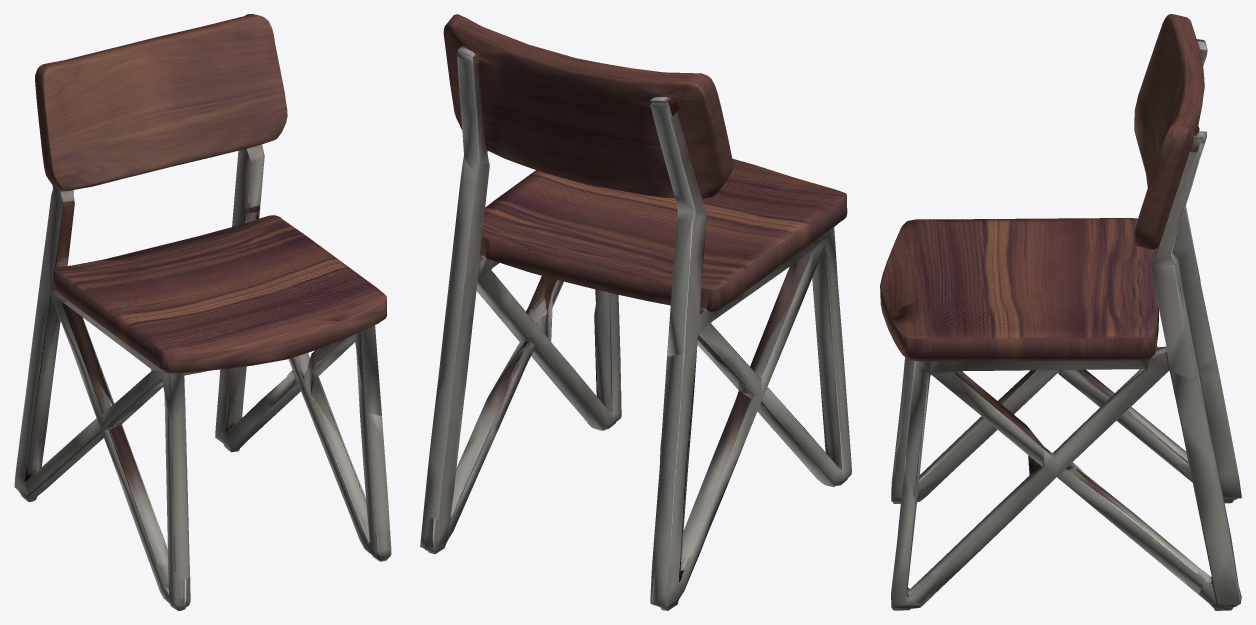
The model's file is chair-walnut.glb.
3 renders of one model, left to right at view 1: azimuth 30°, elevation 25°; view 2: azimuth 150°, elevation 25°; view 3: azimuth 270°, elevation 25°, orthographic. The views are drawn at different scales.
Parts seen in each view (by area): view 1: Mesh_0.001; view 2: Mesh_0.001; view 3: Mesh_0.001.
Boxes of the visible parts, left/top/right/bottom form: Mesh_0.001: left=14, top=14, right=391, bottom=610; Mesh_0.001: left=420, top=14, right=851, bottom=610; Mesh_0.001: left=880, top=14, right=1241, bottom=610.
Bounding box in the file's own units: 0.5487 × 1 × 0.6759.
Materials: 1 (1 with a texture image).
